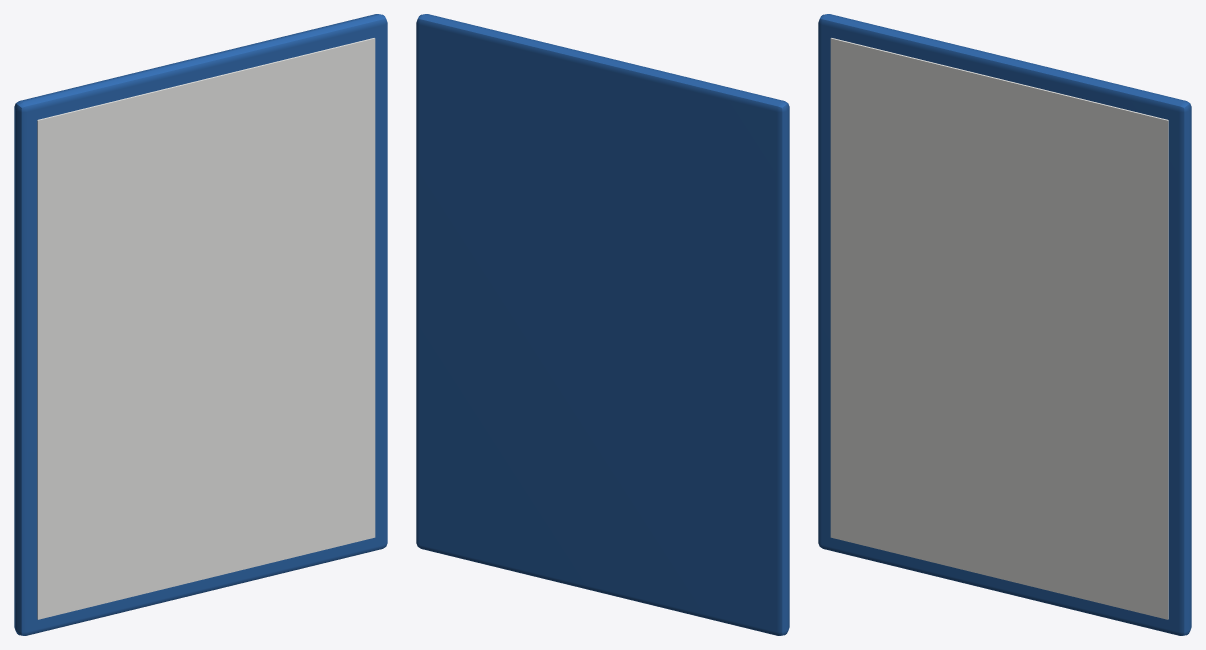
Rendered from bia_bao_cao.glb.
The picture shows the model from 3 angles, left to right: view 1: azimuth 30°, elevation 25°; view 2: azimuth 150°, elevation 25°; view 3: azimuth 330°, elevation 25°; orthographic projection.
Parts seen in each view (by area): view 1: bia_bao_cao; view 2: bia_bao_cao; view 3: bia_bao_cao.
Boxes of the visible parts, x1,y1,x2,y2 form: bia_bao_cao: (14,14,387,635); bia_bao_cao: (416,14,789,635); bia_bao_cao: (818,14,1191,635).
Size of the model in its own units: 0.225 by 0.31 by 0.011.
